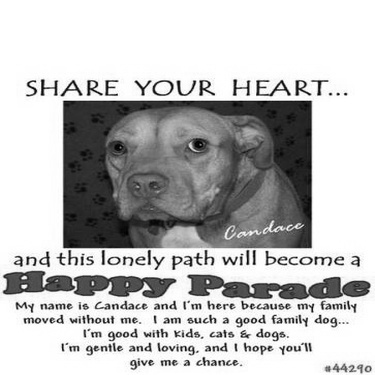dog: (85, 92, 321, 264)
